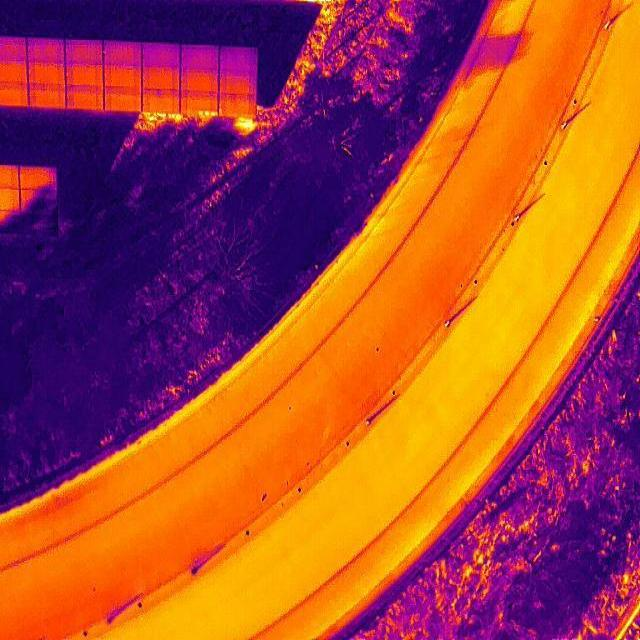Cell-Multi: (181, 93, 218, 115)
No-Anomaly: (218, 46, 257, 75), (182, 70, 218, 98), (142, 45, 182, 70), (182, 46, 220, 72), (104, 42, 141, 68), (66, 64, 103, 90), (142, 70, 180, 95), (27, 38, 66, 62), (65, 40, 103, 64), (219, 94, 255, 118), (103, 69, 143, 90), (219, 75, 257, 97), (28, 64, 65, 86), (104, 90, 142, 111), (28, 88, 65, 109), (67, 90, 104, 110), (142, 95, 179, 115)
Shadowing: (21, 188, 57, 214), (19, 169, 56, 190), (21, 215, 58, 236)
